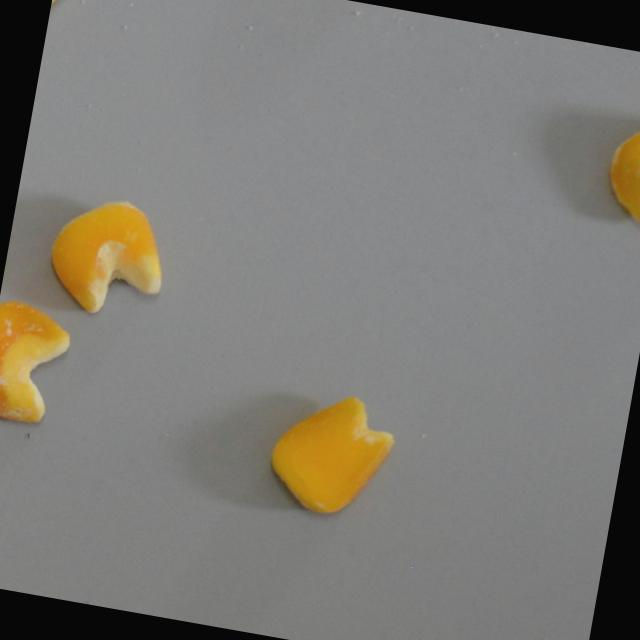no_canjicado: (262, 383, 399, 523), (40, 190, 174, 324)
pelicula: (0, 298, 75, 430), (600, 102, 640, 224), (48, 0, 75, 24)
